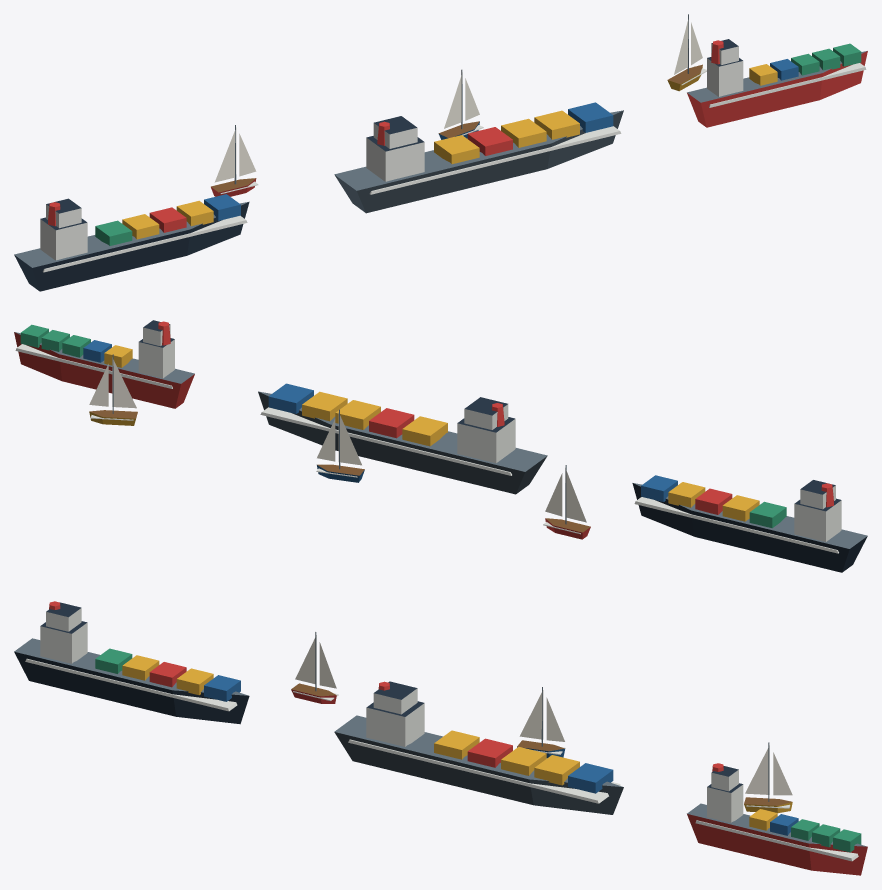
File: W2_Far_Ships.fbx
The picture shows the model from 3 angles, top to bottom: view 1: azimuth 30°, elevation 25°; view 2: azimuth 150°, elevation 25°; view 3: azimuth 330°, elevation 25°; orthographic projection.
Parts seen in each view (by area): view 1: W2_Far_Ships; view 2: W2_Far_Ships; view 3: W2_Far_Ships.
Boxes of the visible parts, x1=… form: W2_Far_Ships: x1=14, y1=14, x2=867, y2=291; W2_Far_Ships: x1=14, y1=320, x2=867, y2=572; W2_Far_Ships: x1=14, y1=601, x2=867, y2=875.
Size of the model in its own units: 485 by 42.8 by 59.31.
